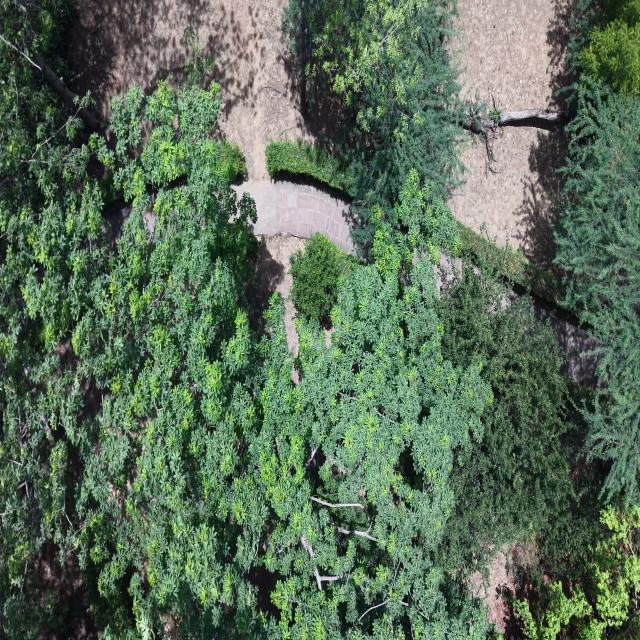DRY_AREA: (65, 0, 326, 215), (65, 0, 313, 209), (64, 0, 323, 181), (70, 0, 325, 180), (69, 0, 312, 179), (236, 180, 353, 355), (236, 181, 353, 330), (450, 128, 566, 268), (234, 180, 354, 253), (247, 233, 306, 357), (247, 234, 306, 356), (470, 543, 537, 633), (470, 549, 515, 632)
VEGETATION_TREE: (0, 0, 639, 639), (0, 82, 490, 638), (2, 83, 490, 638), (0, 49, 256, 637), (255, 239, 599, 635), (71, 83, 256, 637), (460, 2, 638, 566), (236, 259, 491, 638), (515, 2, 639, 639), (438, 264, 638, 639), (0, 2, 107, 637), (437, 248, 606, 590), (266, 0, 486, 255), (437, 264, 581, 575), (556, 0, 639, 502), (306, 0, 467, 252), (558, 0, 637, 491), (556, 84, 639, 502), (514, 505, 639, 639), (0, 0, 99, 160), (558, 0, 639, 117), (371, 170, 461, 274), (456, 222, 565, 306), (458, 223, 565, 306), (290, 232, 357, 325), (579, 0, 639, 97), (290, 232, 341, 324), (581, 19, 639, 96), (265, 141, 349, 192)
